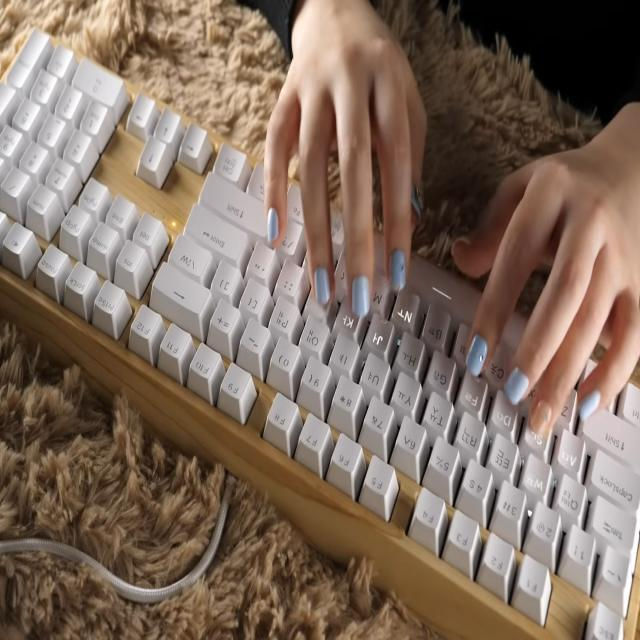keyboard-with-hands: (0, 25, 640, 640)
